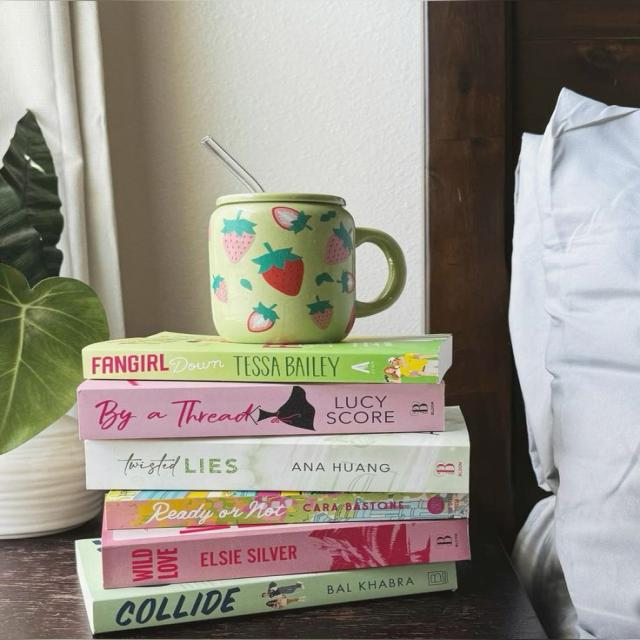book: (77, 540, 457, 634), (85, 407, 469, 492), (101, 518, 470, 588), (78, 380, 443, 440), (83, 333, 451, 383), (104, 490, 468, 529)
